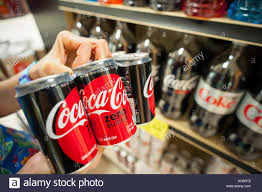can: (12, 68, 99, 168), (79, 58, 139, 148), (119, 54, 162, 118)
